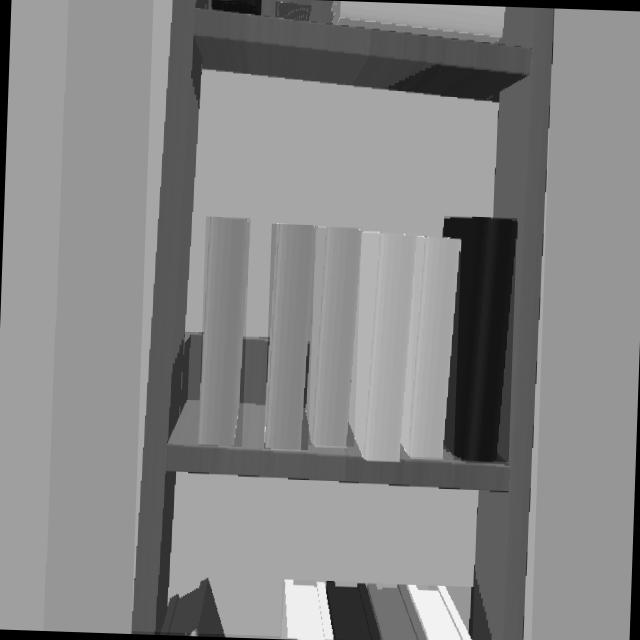book: (443, 218, 516, 461), (349, 232, 416, 461), (401, 237, 460, 458), (305, 227, 361, 446), (264, 223, 315, 449), (198, 216, 248, 446), (408, 586, 470, 640), (367, 584, 426, 640), (326, 581, 380, 640), (280, 579, 333, 639)
shelf: (132, 0, 553, 640)
